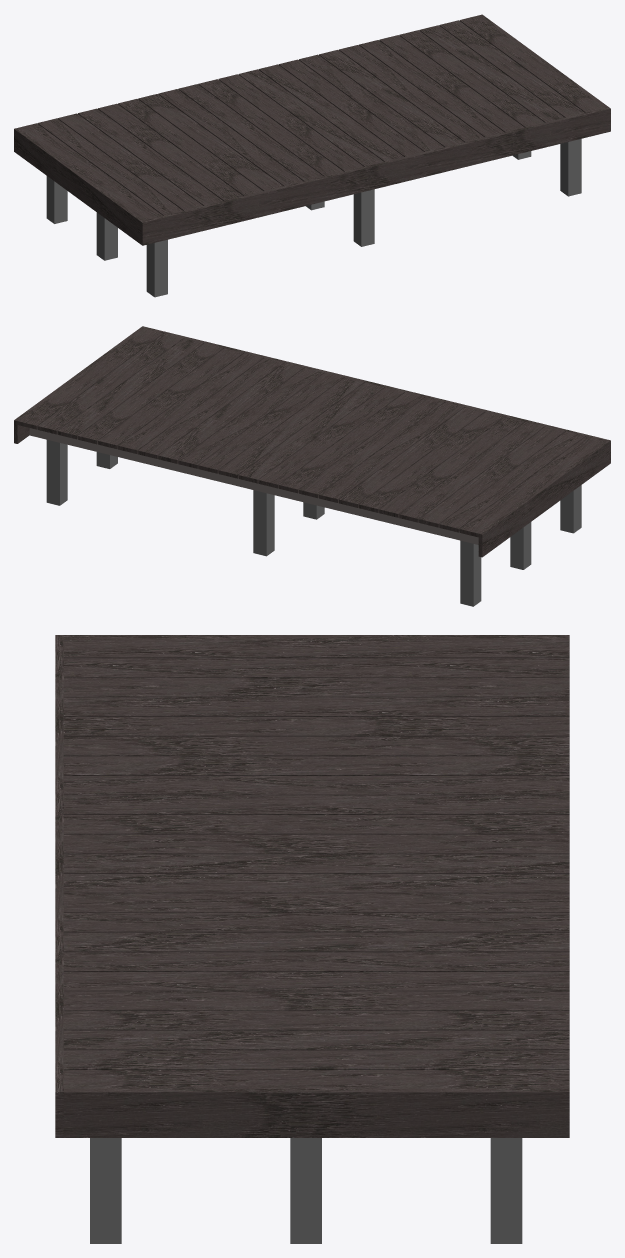
Rendered from tanmokuashdeck_1khan-4s_asianbrown.fbx.
The picture shows the model from 3 angles, top to bottom: view 1: azimuth 30°, elevation 25°; view 2: azimuth 150°, elevation 25°; view 3: azimuth 270°, elevation 25°; orthographic projection. The views are drawn at different scales.
Parts seen in each view (by area): view 1: tanmokuashdeck_1khan-4s_asianbrown; view 2: tanmokuashdeck_1khan-4s_asianbrown; view 3: tanmokuashdeck_1khan-4s_asianbrown.
Boxes of the visible parts, x1=… form: tanmokuashdeck_1khan-4s_asianbrown: x1=14, y1=14, x2=610, y2=297; tanmokuashdeck_1khan-4s_asianbrown: x1=14, y1=326, x2=610, y2=606; tanmokuashdeck_1khan-4s_asianbrown: x1=55, y1=635, x2=569, y2=1243.
Bounding box in the file's own units: 256 × 45 × 122.
3 materials, 1 textured.
